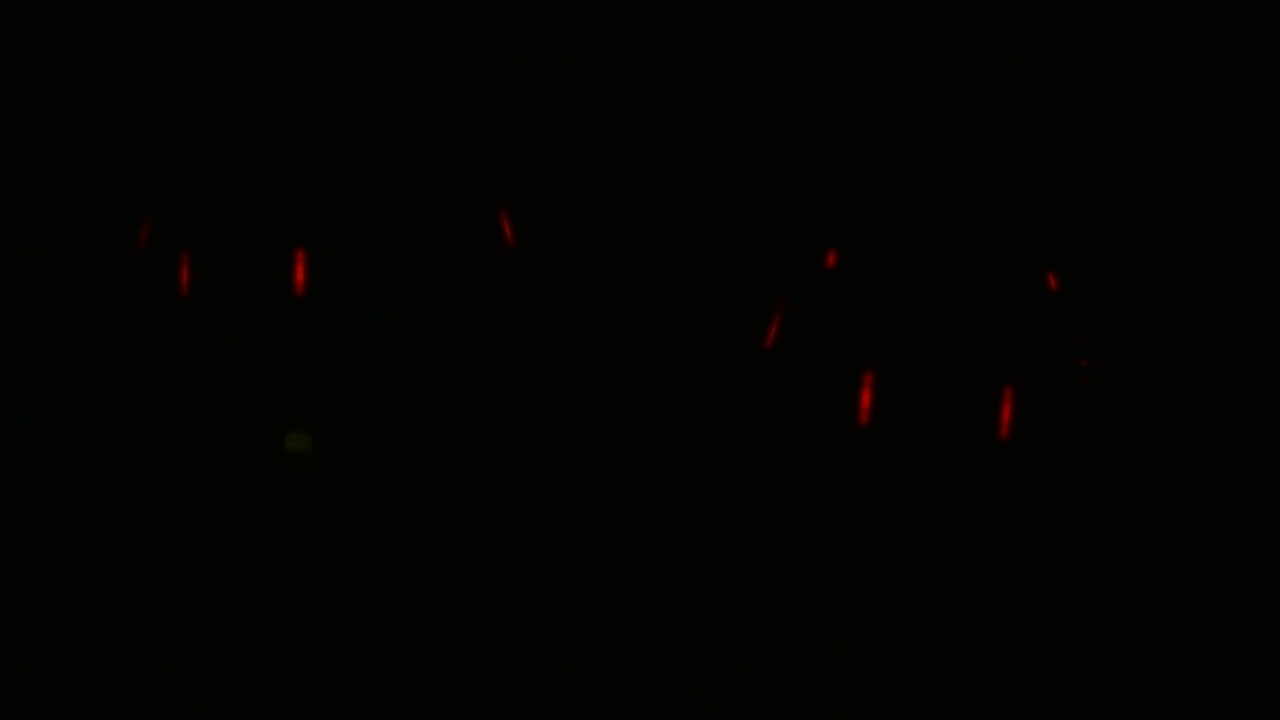pair1: (856, 368, 1016, 450), (177, 238, 316, 302)
